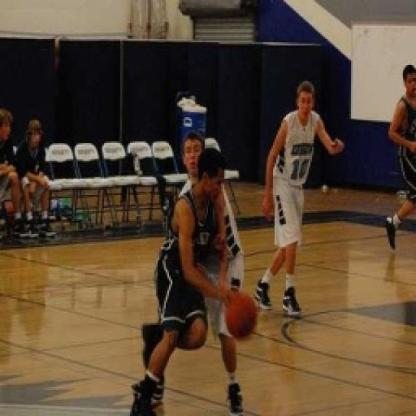basketball: (225, 291, 260, 340)
